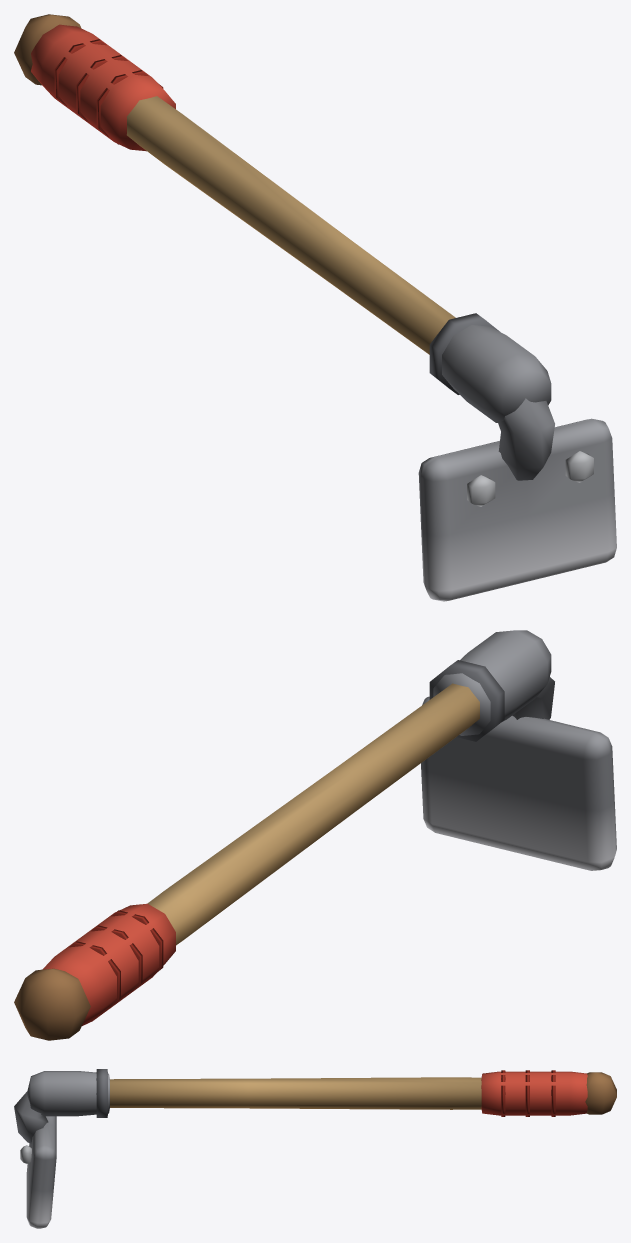
The model's file is prop-tool-hoe.glb.
3 views of the same model, one above another, from view 1: azimuth 30°, elevation 25°; view 2: azimuth 150°, elevation 25°; view 3: azimuth 270°, elevation 25° (orthographic). The views are drawn at different scales.
Parts seen in each view (by area): view 1: body; view 2: body; view 3: body.
Boxes of the visible parts, bbox=[...] form: body: bbox=[14, 14, 616, 601]; body: bbox=[14, 630, 616, 1040]; body: bbox=[14, 1069, 616, 1228].
Size of the model in its own units: 0.19 by 0.2164 by 0.8884.
